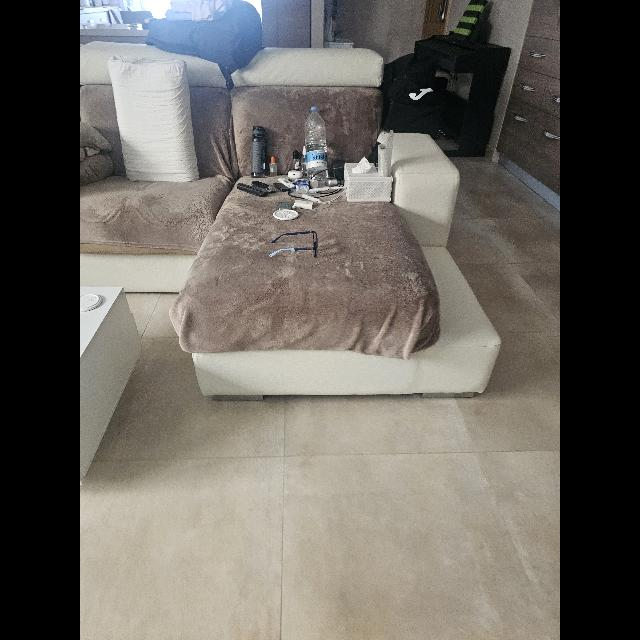glasses: (268, 230, 318, 258)
